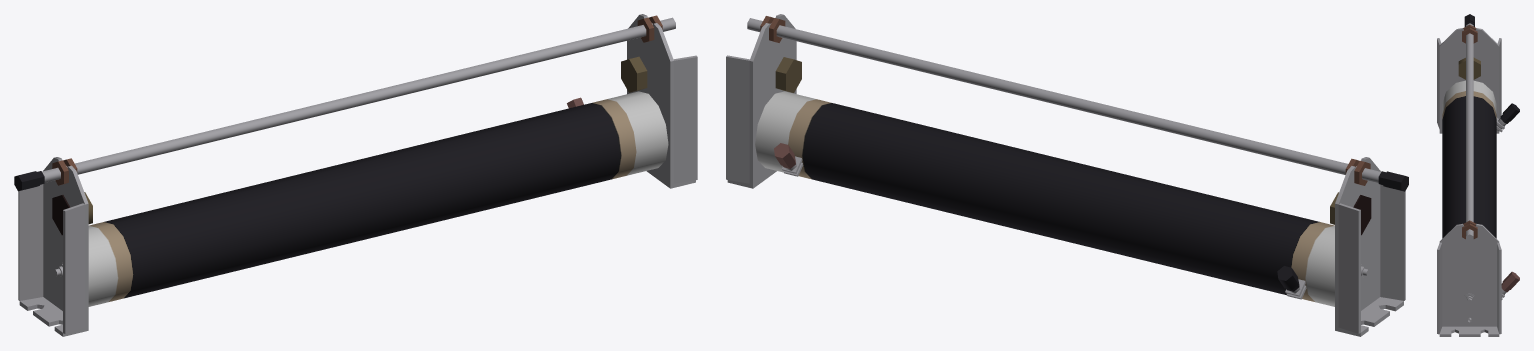
File: 滑动变阻器.FBX
3 views of the same model, side by side, from view 1: azimuth 30°, elevation 25°; view 2: azimuth 150°, elevation 25°; view 3: azimuth 270°, elevation 25° (orthographic). The views are drawn at different scales.
Parts seen in each view (by area): view 1: Object01; view 2: Object01; view 3: Object01.
Boxes of the visible parts, box(x1,y1,x2,y2) form: Object01: box(14, 14, 697, 336); Object01: box(726, 14, 1408, 336); Object01: box(1437, 14, 1519, 336).
Bounding box in the file's own units: 556 × 86.06 × 122.
